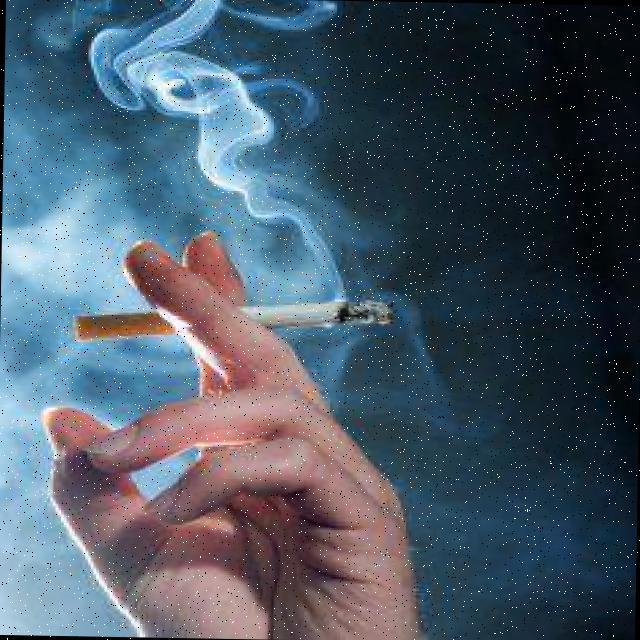cigarette: (60, 281, 413, 350)
